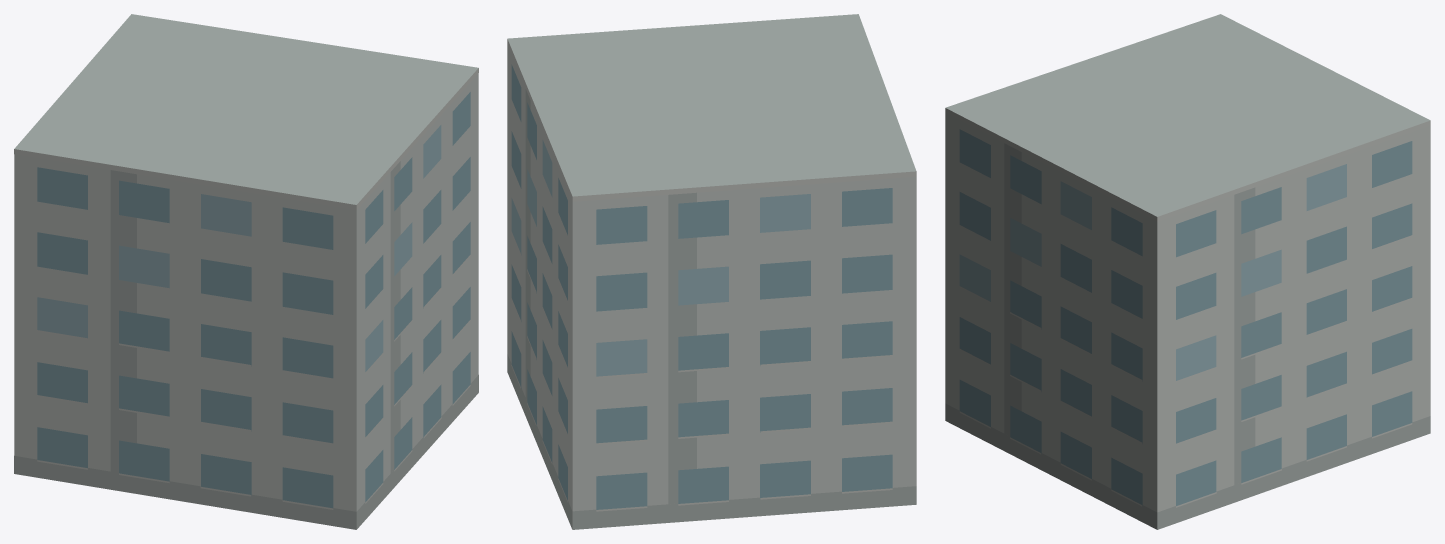
The model's file is survey-upis-32843187.glb.
3 renders of one model, left to right at view 1: azimuth 30°, elevation 25°; view 2: azimuth 150°, elevation 25°; view 3: azimuth 270°, elevation 25°, orthographic. The views are drawn at different scales.
Parts seen in each view (by area): view 1: survey-upis-32843187.tmp; view 2: survey-upis-32843187.tmp; view 3: survey-upis-32843187.tmp.
Boxes of the visible parts, bbox=[...] form: survey-upis-32843187.tmp: bbox=[14, 14, 478, 529]; survey-upis-32843187.tmp: bbox=[507, 14, 916, 529]; survey-upis-32843187.tmp: bbox=[945, 14, 1430, 529].
Bounding box in the file's own units: 21.22 × 15.25 × 21.45.
